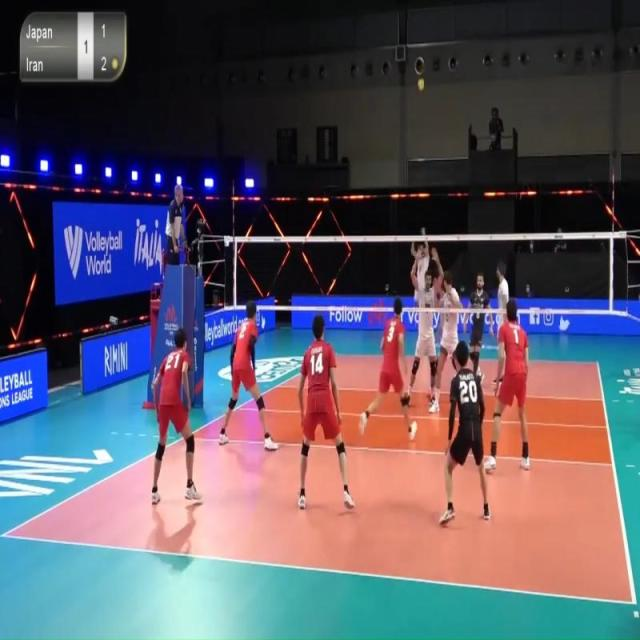volleyball: (416, 76, 426, 94)
